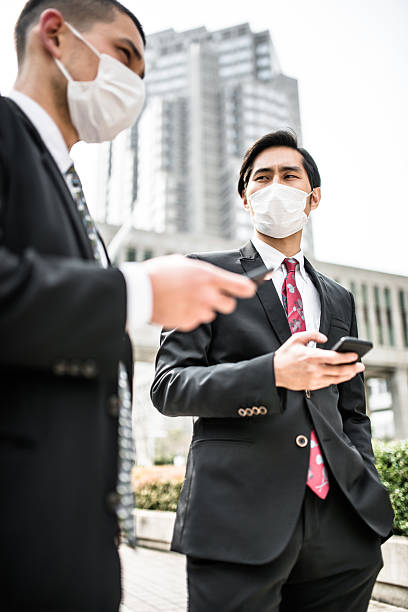mask: (69, 53, 147, 145), (246, 185, 309, 239)
